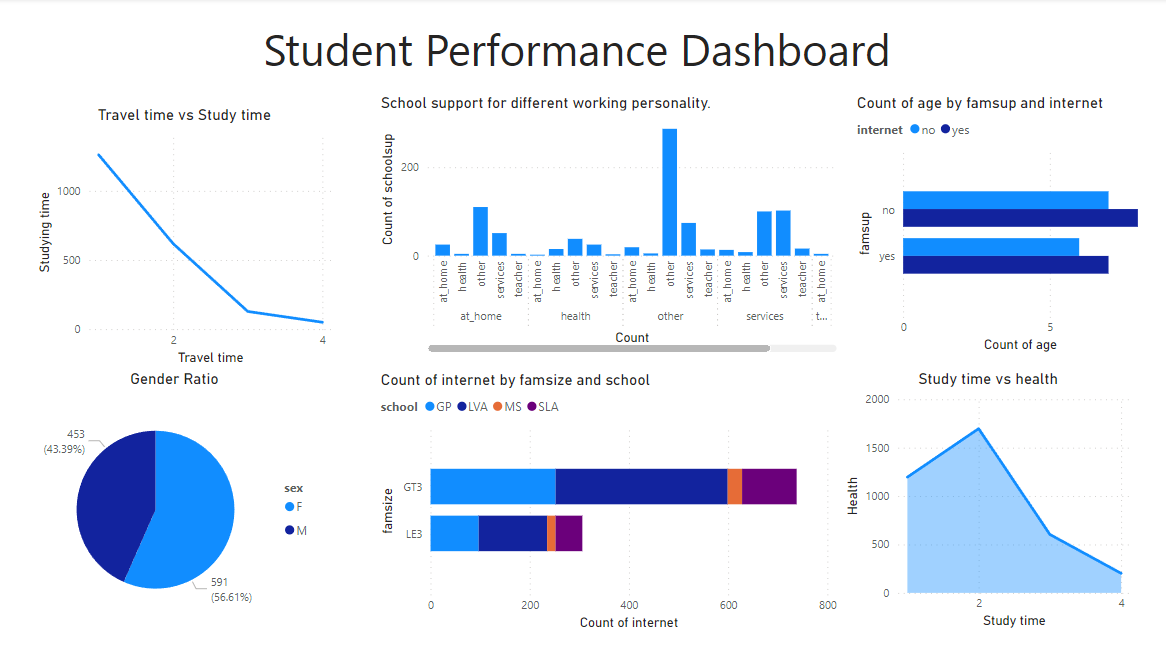

The page's visual inventory and layout, read from the dashboard file:
{"tool":"powerbi","page":{"name":"Page 1","canvas":[1280,720],"ordinal":0},"visuals":[{"type":"pieChart","title":"Gender Ratio","fields":{"Y":["CountNonNull(Student Info.sex)"],"Category":["Student Info.sex"]},"box":[24.7,407.5,333.4,289.5],"z":0},{"type":"lineChart","title":"Travel time vs Study time ","fields":{"Category":["Student Info.traveltime"],"Y":["Sum(Student Info.studytime)"]},"box":[35.7,118,333.4,289.5],"z":1000},{"type":"clusteredColumnChart","title":"School support for different working personality.","fields":{"Category":["Student Info.Mjob","Student Info.Fjob"],"Y":["CountNonNull(Student Info.schoolsup)"]},"box":[413,104.3,510.5,289.5],"z":2000},{"type":"clusteredBarChart","fields":{"Category":["Student Info.famsup"],"Series":["Student Info.internet"],"Y":["Count(Student Info.age)"]},"box":[935.9,104.3,322.5,289.5],"z":3000},{"type":"barChart","fields":{"Category":["Student Info.famsize"],"Series":["Student Info.school"],"Y":["CountNonNull(Student Info.internet)"]},"box":[413,408.9,510.5,289.5],"z":4000},{"type":"stackedAreaChart","title":"Study time vs health","fields":{"Category":["Student Info.studytime"],"Y":["Sum(Student Info.health)"]},"box":[923.5,407.5,322.5,289.5],"z":5000},{"type":"textbox","box":[284,17.8,710.8,76.8],"z":5001}]}

Visuals, with their boxes in screenshot pixels (x1, y1, x2, y2), scaled from the page's 1280x720 canvas onto the 1166x652 screenshot:
"Gender Ratio" pieChart: (23, 369, 326, 631)
"Travel time vs Study time " lineChart: (33, 107, 336, 369)
"School support for different working personality." clusteredColumnChart: (376, 94, 841, 357)
clusteredBarChart - Student Info.famsup x Student Info.internet: (853, 94, 1146, 357)
barChart - Student Info.famsize x Student Info.school: (376, 370, 841, 632)
"Study time vs health" stackedAreaChart: (841, 369, 1135, 631)
textbox: (259, 16, 906, 86)
